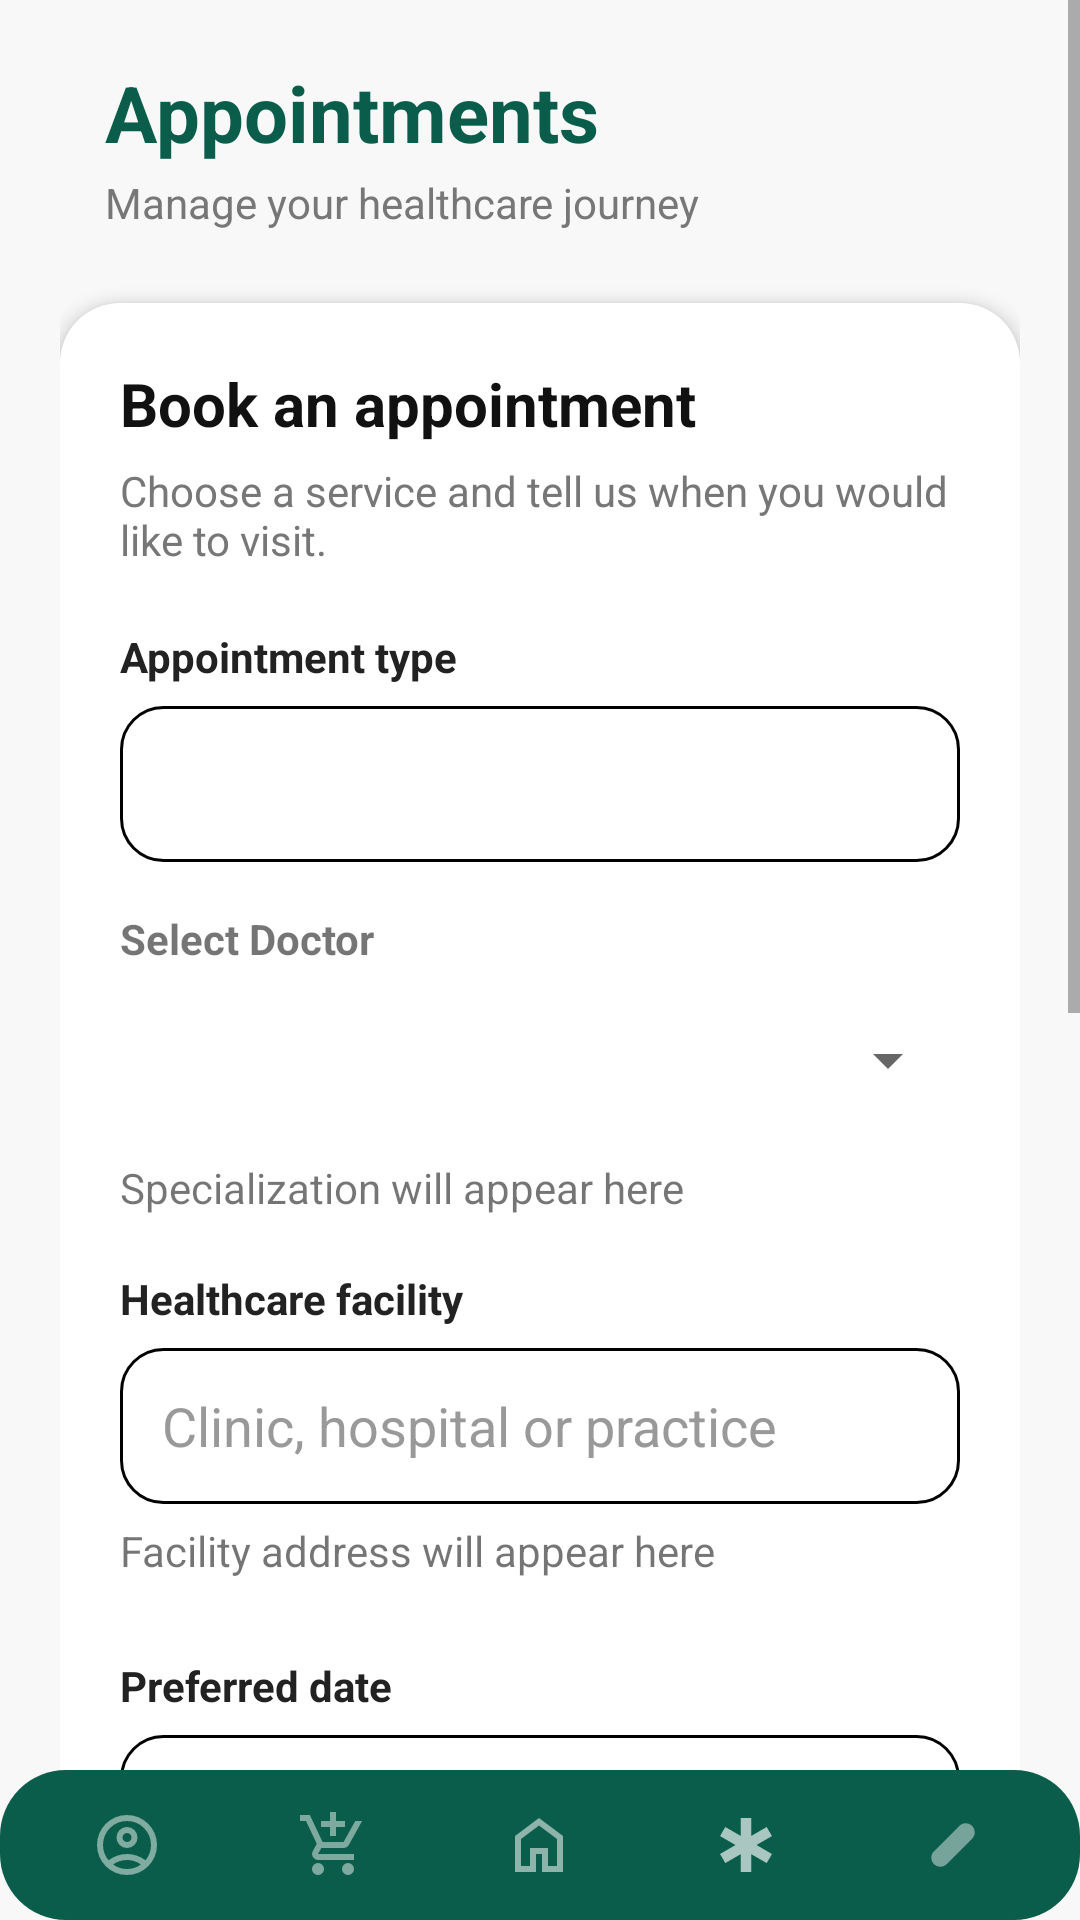

Icon bounding boxes for this 1080px×1920px phone screenshot, format (x1, y1, x2, y2):
account circle: (97, 1815, 157, 1875)
Emergency: (720, 1818, 772, 1872)
home: (515, 1818, 563, 1872)
